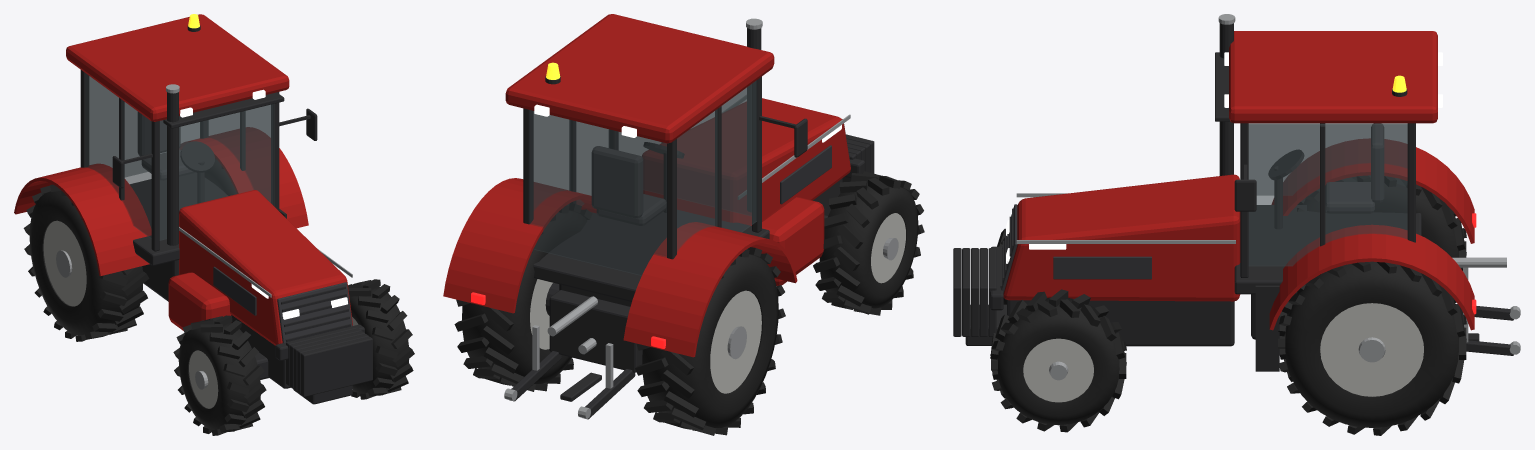
The model's file is tractor.glb.
The picture shows the model from 3 angles, left to right: view 1: azimuth 30°, elevation 25°; view 2: azimuth 150°, elevation 25°; view 3: azimuth 270°, elevation 25°; orthographic projection. The views are drawn at different scales.
Visible parts, largest first — view 1: carroceria, vidrios, rueda_td, rueda_dd, rueda_di, rueda_ti; view 2: carroceria, vidrios, rueda_td, rueda_dd, rueda_ti, tripuntal, brazos_tripuntal; view 3: carroceria, rueda_ti, vidrios, rueda_di, rueda_td, brazos_tripuntal.
Part boxes in pixels (<box>): carroceria: <box>14,14,372,404</box>; vidrios: <box>85,73,274,240</box>; rueda_td: <box>23,184,149,341</box>; rueda_dd: <box>173,315,266,435</box>; rueda_di: <box>348,279,414,399</box>; rueda_ti: <box>204,158,236,195</box>; carroceria: <box>443,14,874,357</box>; vidrios: <box>529,80,756,275</box>; rueda_td: <box>635,247,785,435</box>; rueda_dd: <box>813,171,924,315</box>; rueda_ti: <box>454,203,592,391</box>; tripuntal: <box>549,290,642,401</box>; brazos_tripuntal: <box>504,296,635,419</box>; carroceria: <box>953,14,1474,371</box>; rueda_ti: <box>1278,261,1466,435</box>; vidrios: <box>1248,123,1407,266</box>; rueda_di: <box>990,289,1126,432</box>; rueda_td: <box>1297,175,1466,270</box>; brazos_tripuntal: <box>1452,257,1520,355</box>.
Bounding box in the file's own units: 2.58 × 3.35 × 5.16.
